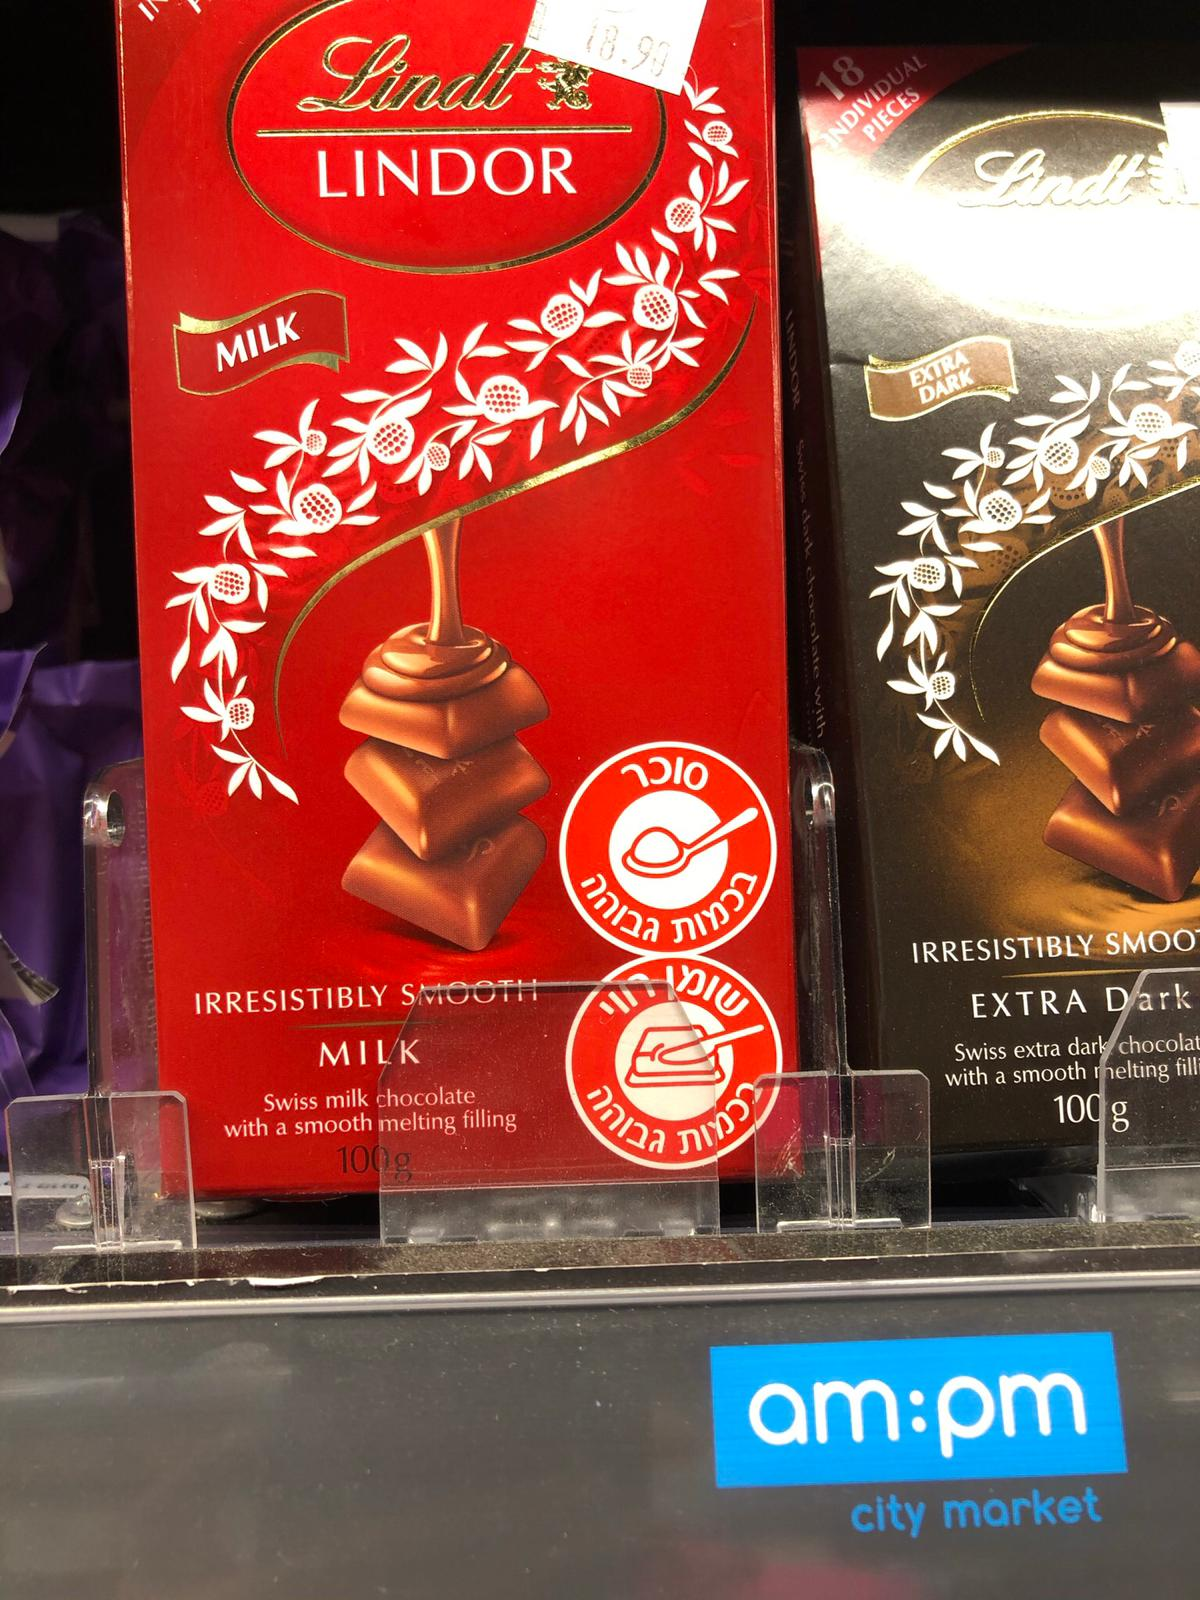fat: (561, 955, 784, 1170)
sugar: (558, 740, 782, 960)
